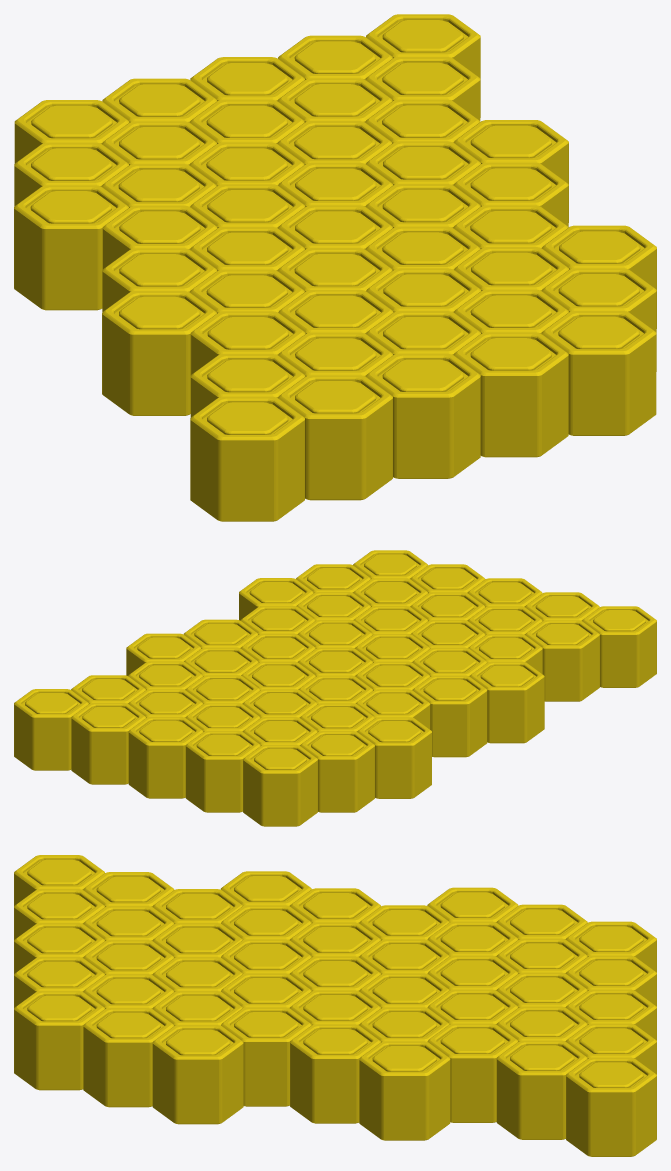
The model's file is Plate_Sota_Gold.fbx.
3 views of the same model, one above another, from view 1: azimuth 30°, elevation 25°; view 2: azimuth 150°, elevation 25°; view 3: azimuth 270°, elevation 25° (orthographic). The views are drawn at different scales.
Visible parts, largest first — view 1: Cylinder.001; view 2: Cylinder.001; view 3: Cylinder.001.
Boxes of the visible parts, x1=… form: Cylinder.001: x1=14, y1=14, x2=656, y2=521; Cylinder.001: x1=14, y1=550, x2=656, y2=826; Cylinder.001: x1=14, y1=855, x2=656, y2=1156.
Size of the model in its own units: 1206 by 160 by 1384.
